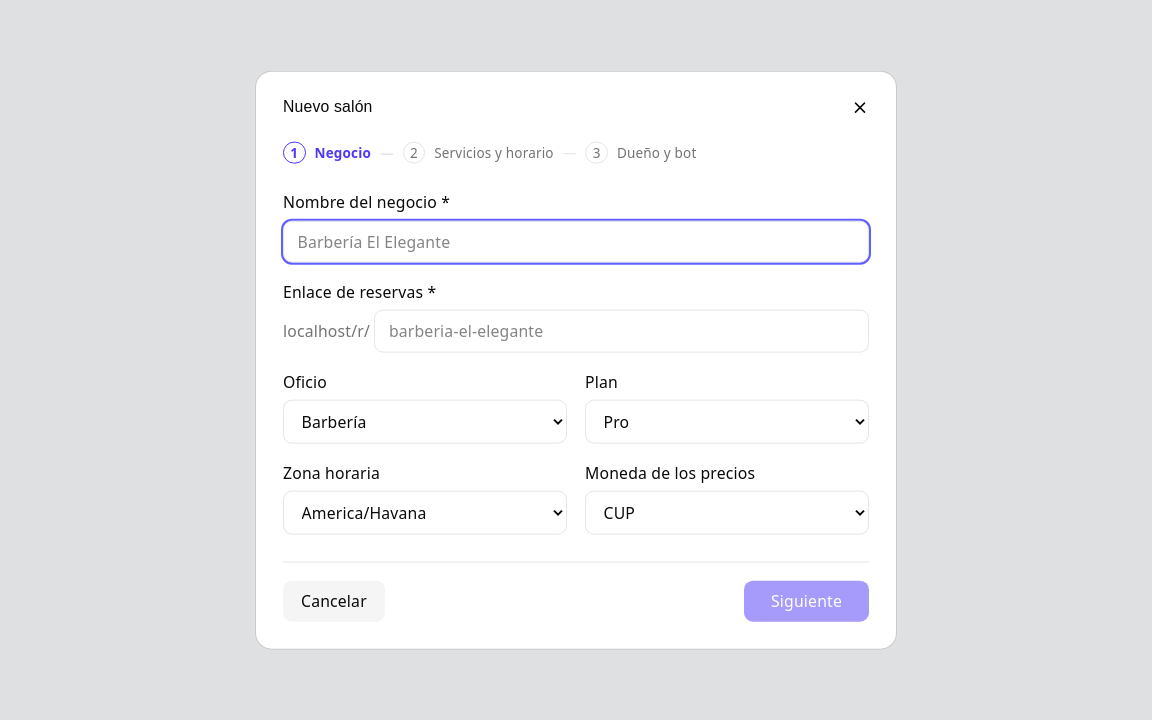
Test: Asistente de alta de salón › un identificador ocupado o reservado bloquea el avance y explica por qué
Type "Ocupado" into the field with placeholder "Barbería El Elegante" at (576, 241), box left=283, top=220, right=869, bottom=263
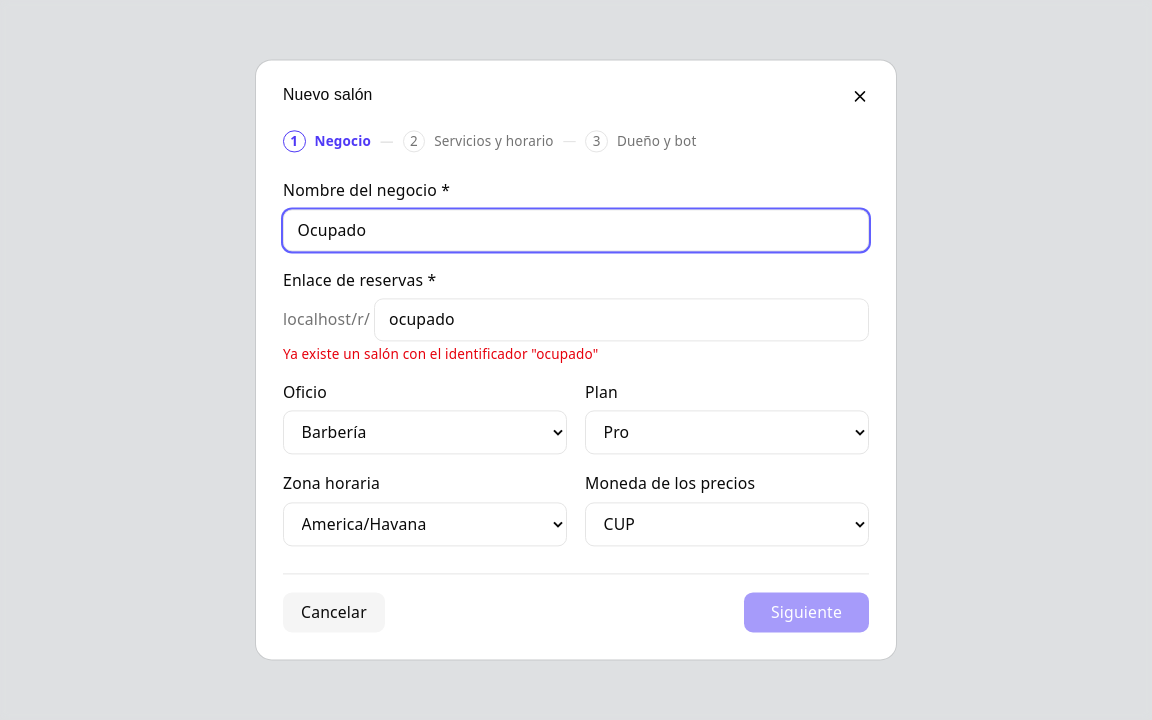
Check: the button "Siguiente" is disabled, box left=744, top=592, right=869, bottom=633
Check: the text "Ya existe un salón con el identificador \"ocupado\"" is shown, box left=283, top=346, right=598, bottom=364
